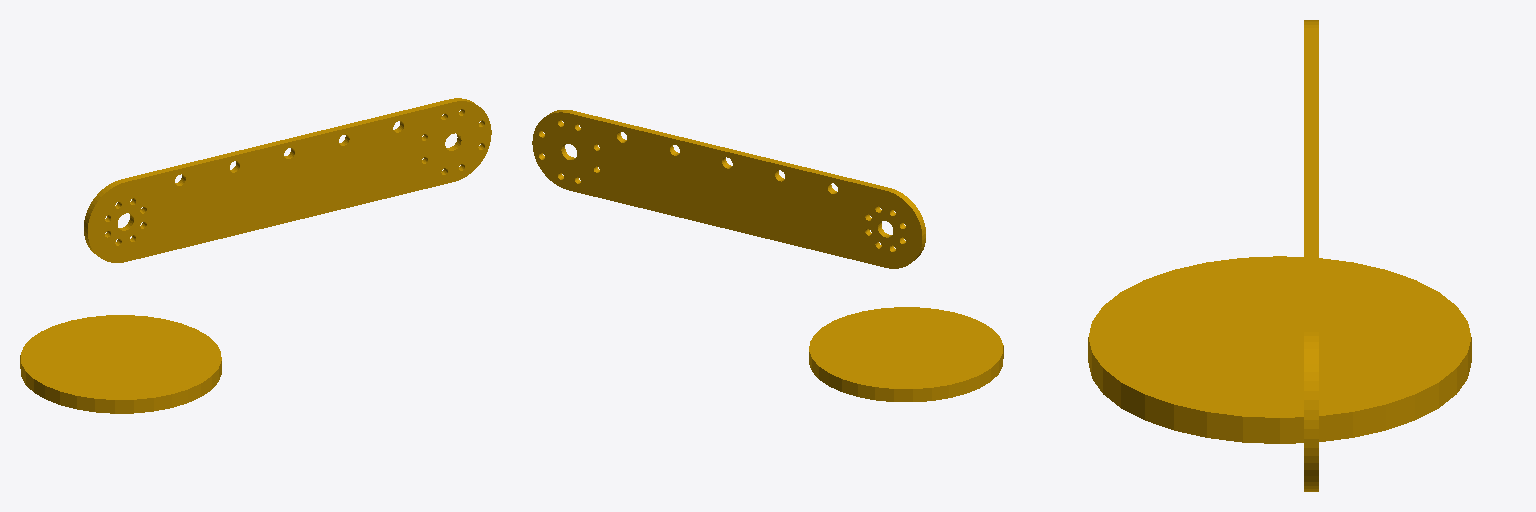
The robot description file, URDF, robot "example":
<?xml version="1.0"?>

<robot name="example">
  
  <!-- *************************************************** -->
  <!-- ***************** Kinematic Chain ***************** -->
  <!-- *************************************************** -->
  <!-- Note the 'origin' tag in the joints defines the
       shift and reorientation before the continuous joint
       rotates around the 'axis'. -->


  <!-- Locate the base plate at the world origin. -->
  <joint name="place" type="fixed">
    <parent link="world"/>
    <child  link="baseplate"/>
    <origin xyz="0 0 0" rpy="0 0 0"/>
  </joint>

  <!-- Shift across the base plate to the base motor. -->
  <joint name="baseplate" type="fixed">
    <parent link="baseplate"/>
    <child  link="basemotor"/>
    <origin xyz="0.08 0 0.012" rpy="0 0 0"/>
  </joint>

  <!-- Base motor.  Thickness: X5 = 31.1mm, X8 = 45.1mm -->
  <joint name="base" type="continuous">
    <parent link="basemotor"/>
    <child  link="lbracket"/>
    <origin xyz="0 0 0.0311" rpy="0 0 0"/>
    <axis   xyz="0 0 1"/>
  </joint>

  <!-- Shift across the L bracket -->
  <joint name="lbracket" type="fixed">
    <parent link="lbracket"/>
    <child  link="shouldermotor"/>
    <origin xyz="0 -0.035 0.075" rpy="1.5708 0 3.1415"/>
  </joint>

  <!-- Shoulder motor.  Thickness: X5 = 31.1mm, X8 = 45.1mm -->
  <joint name="shoulder" type="continuous">
    <parent link="shouldermotor"/>
    <child  link="upperarm"/>
    <origin xyz="0 0 0.0451" rpy="0 0 0"/>
    <axis   xyz="0 0 1"/>
  </joint>

  <!-- Shift across the upper arm (1/4in thickness) -->
  <joint name="upperarm" type="fixed">
    <parent link="upperarm"/>
    <child  link="elbowmotor"/>
    <origin xyz="0 0.3 0" rpy="0 3.1415 1.5708"/>
  </joint>

  <!-- Elbow motor.  Thickness: X5 = 31.1mm, X8 = 45.1mm -->
  <joint name="elbow" type="continuous">
    <parent link="elbowmotor"/>
    <child  link="lowerarm"/>
    <origin xyz="0 0 .0311" rpy="0 0 0"/>
    <axis   xyz="0 0 1"/>
  </joint>

  <!-- Shift across the upper arm (1/4in thickness) -->
  <joint name="lowerarm" type="fixed">
    <parent link="lowerarm"/>
    <child  link="tip"/>
    <origin xyz="0 0.315 0.003175" rpy="0 0 0"/>
  </joint>
  
  <!-- *************************************************** -->
  <!-- *************** Visual Link Elements ************** -->
  <!-- *************************************************** -->
  <!-- Note collada .dae files have better color/texture   -->
  <!-- suppport that STL files.                            -->

  <!-- Colors -->
  <material name="wood">  <color rgba="0.82 0.62 0.04 1"/>  </material>
  <material name="hebi">  <color rgba="0.82 0.06 0.06 1"/>  </material>

  <!-- World can't take a visual element (at least in Gazebo). -->
  <link name="world"/>

  <link name="baseplate">
    <visual>
      <origin xyz = "0.07 0 0" rpy = "0 0 0"/>
      <geometry>
        <cylinder length="0.012" radius="0.08"/>
      </geometry>
      <material name="wood"/>
    </visual>
  </link>

  <link name="basemotor">
    <visual>
      <geometry>
        <mesh filename="package://basic134/meshes/X5.stl"
	      scale="0.001 0.001 0.001"/>
      </geometry>
      <material name="hebi"/>
    </visual>
  </link>

  <link name="lbracket">
    <visual>
      <origin xyz = "0.038 0.03 0" rpy = "0 0 3.1415"/>
      <geometry>
        <mesh filename="package://basic134/meshes/lbracket.STL"
        scale="0.001 0.001 0.001"/>
      </geometry>
      <material name="wood"/>
    </visual>
  </link>

  <link name="shouldermotor">
    <visual>
      <geometry>
        <mesh filename="package://basic134/meshes/X8.stl"
	      scale="0.001 0.001 0.001"/>
      </geometry>
      <material name="hebi"/>
    </visual>
  </link>

  <link name="upperarm">
    <visual>
      <origin xyz = "-0.15 0 0" rpy = "0 -1.5708 0"/>
      <geometry>
        <mesh filename="package://basic134/meshes/arm_base.stl"
        scale="0.001 0.001 0.001"/>
      </geometry>
      <material name="wood"/>
    </visual>
  </link>

  <link name="elbowmotor">
    <visual>
      <geometry>
        <mesh filename="package://basic134/meshes/X5.stl"
	      scale="0.001 0.001 0.001"/>
      </geometry>
      <material name="hebi"/>
    </visual>
  </link>

  <link name="lowerarm">
    <visual>
      <geometry>
        <mesh filename="package://basic134/meshes/lowerarm.stl"/>
      </geometry>
      <material name="wood"/>
    </visual>
  </link>

  <link name="tip"/>

</robot>

--- Facts derived from the render (not from the file) ---
Views: 3 orthographic renders of the robot side by side, from view 1: azimuth 30°, elevation 25°; view 2: azimuth 150°, elevation 25°; view 3: azimuth 270°, elevation 25°.
Model example with 9 links and 8 joints (3 continuous, 5 fixed), rooted at world, posed all joints at 0.
Links seen in each view (by area): view 1: upperarm, baseplate; view 2: upperarm, baseplate; view 3: baseplate, upperarm.
Boxes of the visible links, x1,y1,x2,y2 form: upperarm: [84, 98, 491, 262]; baseplate: [20, 315, 221, 413]; upperarm: [532, 110, 925, 268]; baseplate: [809, 307, 1003, 401]; baseplate: [1088, 256, 1471, 443]; upperarm: [1304, 20, 1318, 491].
Size in the robot's own frame: 0.4251 by 0.16 by 0.1591 metres.
Meshes: 5 distinct files referenced, 1 mesh visuals loaded (1 binary STL); not drawn: 5 (file found but could not be loaded).